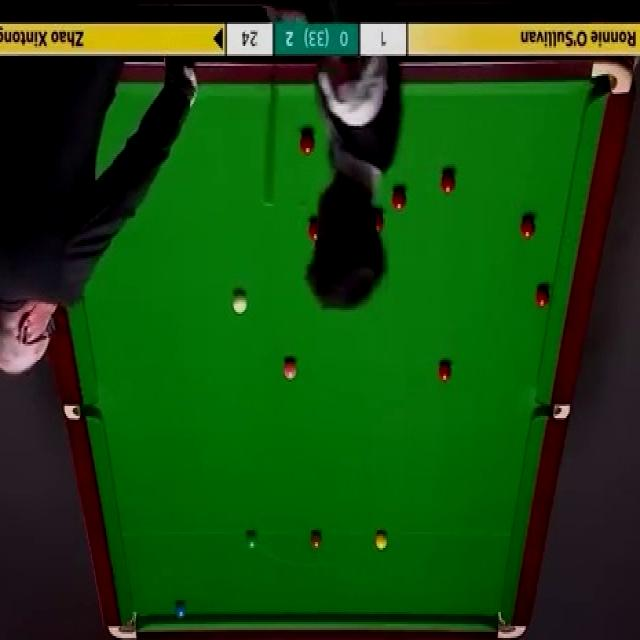blue-ball: (174, 598, 187, 620)
brown-ball: (309, 530, 322, 550)
green-ball: (245, 529, 259, 550)
pink-ball: (283, 354, 298, 382)
red-ball: (391, 186, 407, 212), (534, 284, 551, 308), (300, 132, 316, 156), (370, 211, 386, 235), (442, 170, 456, 197), (439, 362, 453, 384), (308, 215, 318, 244), (522, 217, 534, 240)
white-ball: (233, 287, 247, 317)
yellow-ball: (374, 530, 389, 551)
